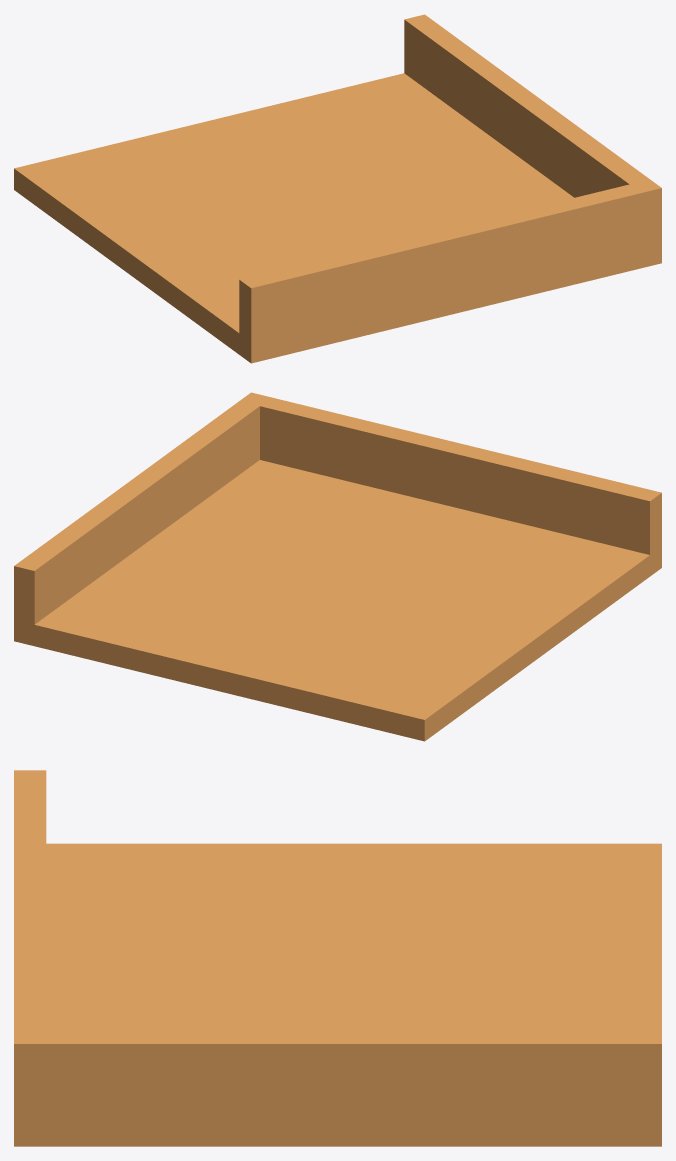
Rendered from YellowRoof_Corner.glb.
3 views of the same model, one above another, from view 1: azimuth 30°, elevation 25°; view 2: azimuth 150°, elevation 25°; view 3: azimuth 270°, elevation 25° (orthographic). The views are drawn at different scales.
Visible parts, largest first — view 1: roof_flat_corner_yellow; view 2: roof_flat_corner_yellow; view 3: roof_flat_corner_yellow.
Boxes of the visible parts, x1,y1,x2,y2 form: roof_flat_corner_yellow: (14,14,661,363); roof_flat_corner_yellow: (14,392,661,741); roof_flat_corner_yellow: (14,770,661,1146).
Size of what is drawn, in the model's own units: 4 by 0.7 by 4.
Materials: 1 (1 with a texture image).
